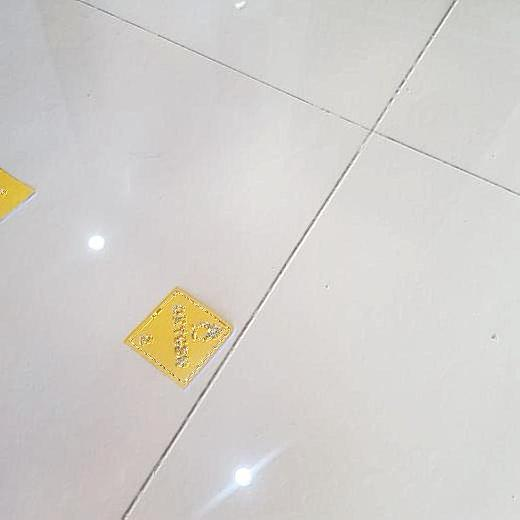oxidizer: (126, 291, 232, 382)
